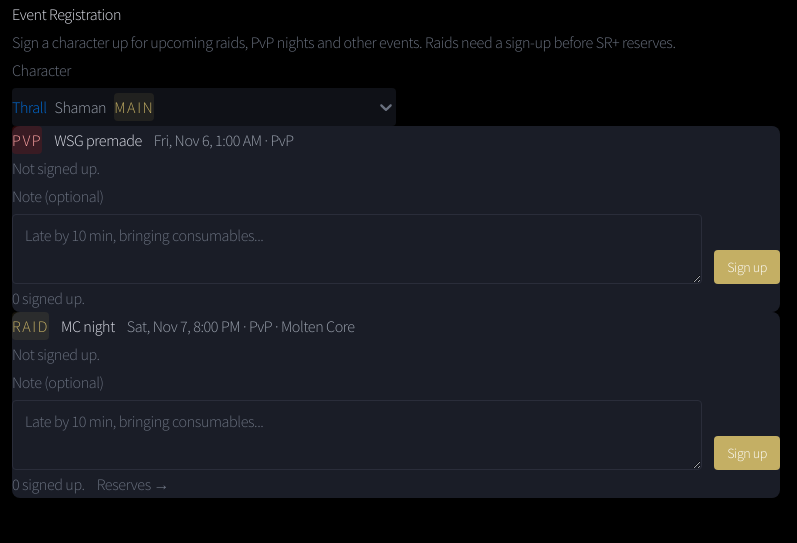
Test: Event Registration (member) › lists upcoming events only, signs up and leaves with a reason
This screenshot has width=797, height=543.
Expected: the heading "WSG premade" is shown, [54, 126, 142, 154]
Expected: the heading "MC night" is shown, [61, 312, 115, 340]
Click the 1st button "Sign up" at (747, 267), box [714, 250, 780, 284]
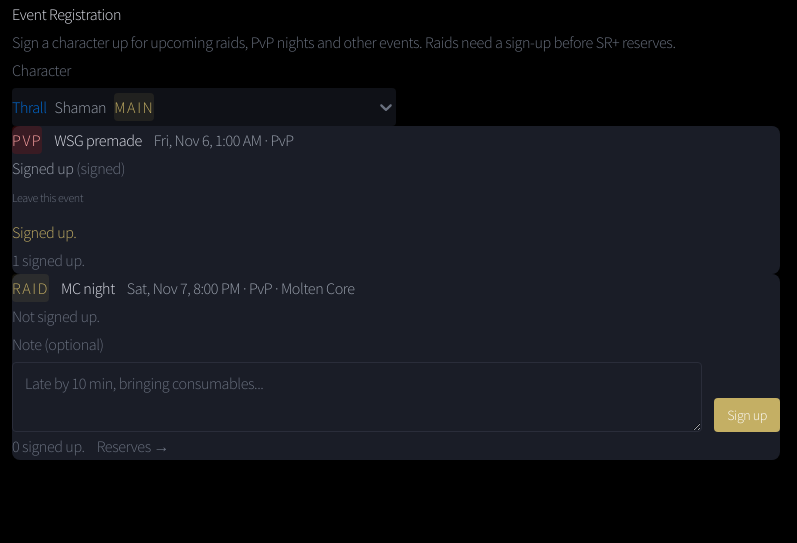
Expected: the text "Signed up" is shown, [12, 158, 74, 178]
Now the text "1 signed up." is shown, box [12, 246, 85, 274]
Click the button "Leave this event" at (48, 198), box [12, 190, 83, 206]
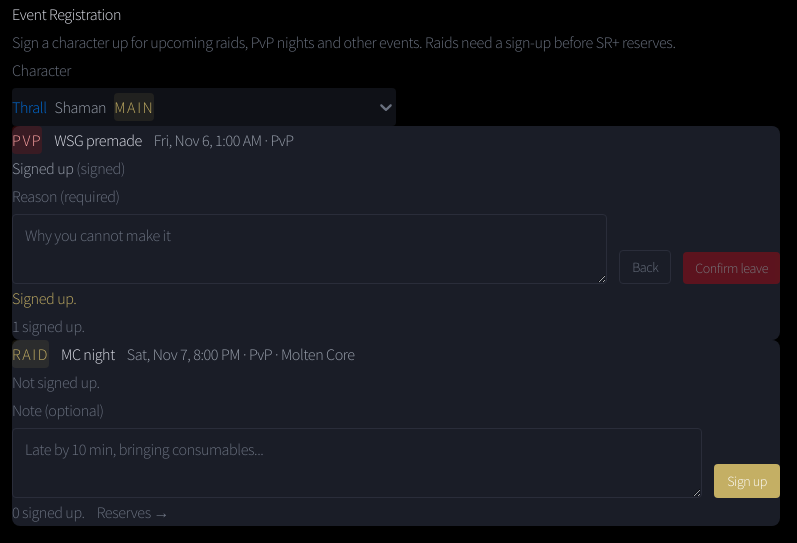
Now the button "Confirm leave" is disabled, box [683, 252, 780, 284]
Type "work" into the text box named "Leave reason" at (310, 249), box [12, 214, 607, 284]
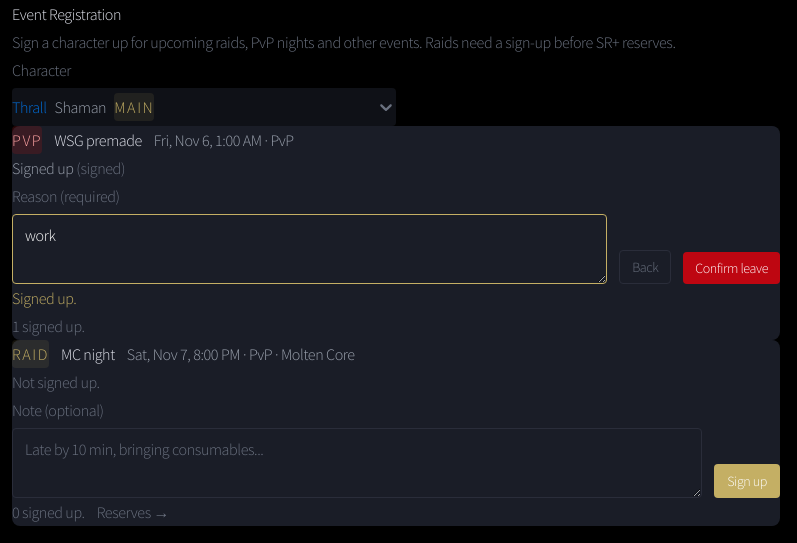
Click the button "Confirm leave" at (732, 268), box [683, 252, 780, 284]
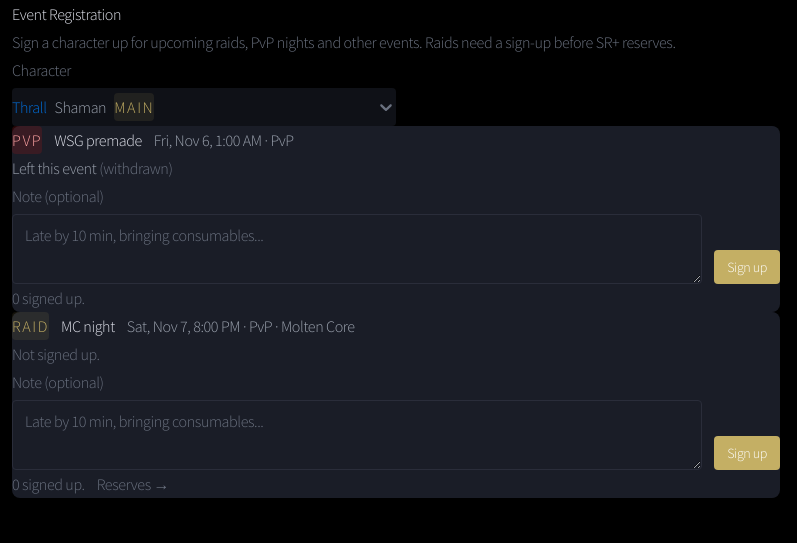
Now the text "Left this event" is shown, box [12, 158, 96, 178]
